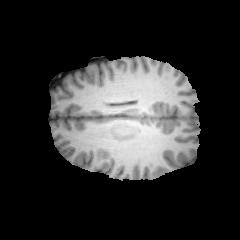glioma: (109, 122, 140, 142)
